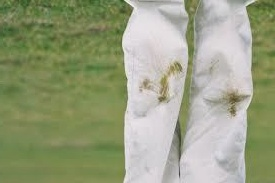earth: (225, 91, 241, 117), (160, 76, 170, 102), (169, 61, 181, 73), (142, 79, 155, 90)
